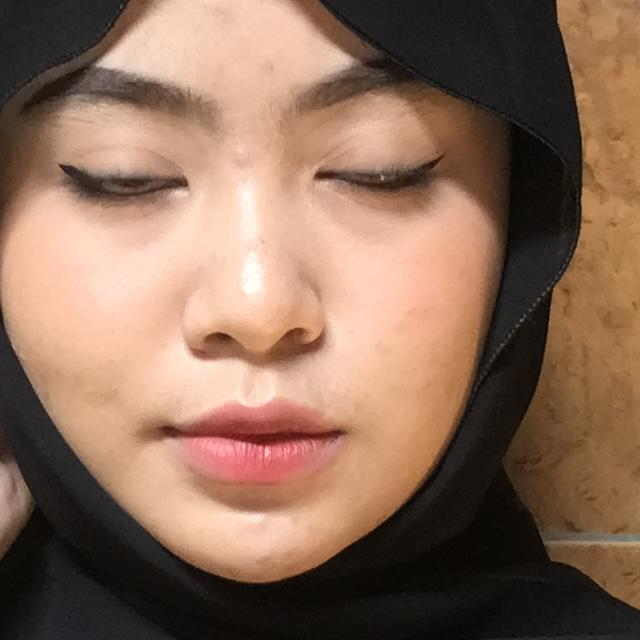ibu: (0, 231, 195, 640)
